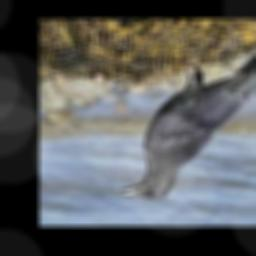Crow: (121, 48, 256, 200)
